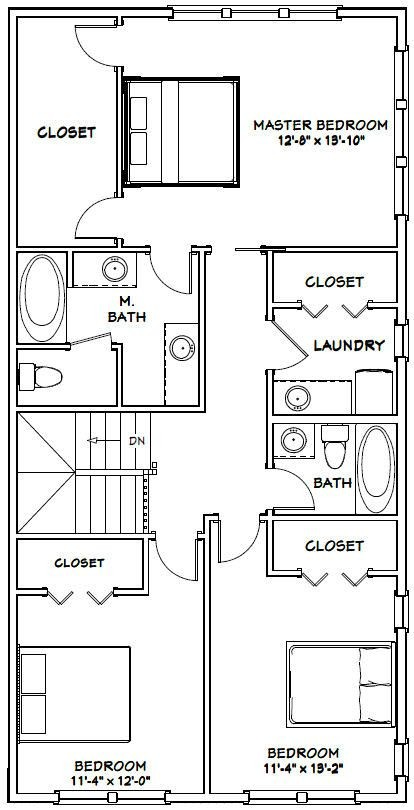door: (145, 529, 205, 589), (264, 321, 322, 379), (152, 239, 197, 302), (71, 22, 122, 73), (211, 516, 263, 564), (74, 202, 125, 249), (275, 468, 326, 512)
room: (6, 5, 411, 255), (195, 515, 414, 805), (2, 531, 216, 798), (263, 247, 401, 518), (5, 248, 207, 416)
window: (169, 2, 344, 28), (395, 45, 414, 218), (54, 779, 112, 810), (245, 781, 299, 810), (306, 784, 361, 810), (111, 787, 166, 810), (386, 326, 411, 364), (392, 594, 412, 637), (394, 743, 414, 779)
